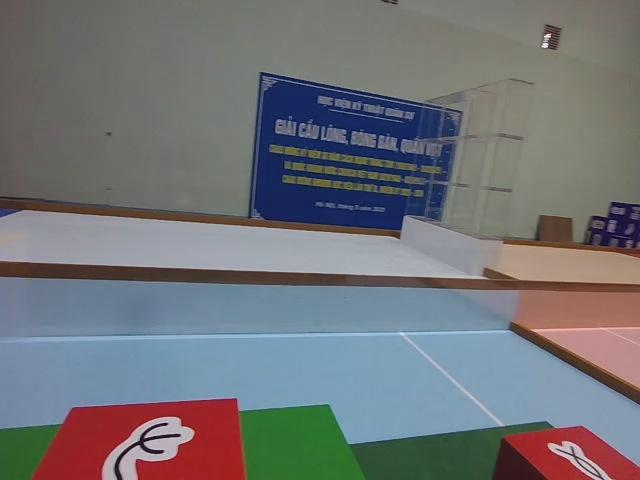R2 Real: (33, 395, 247, 480), (491, 424, 640, 480)
